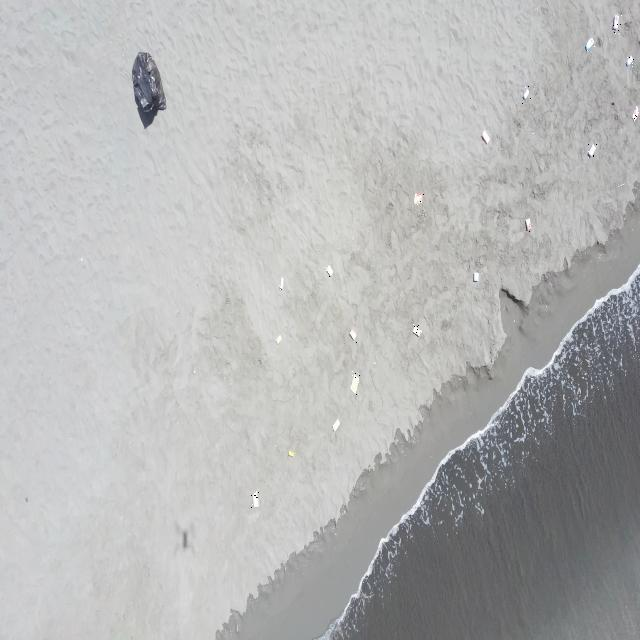Garbage: (132, 51, 164, 111), (350, 372, 359, 393), (584, 37, 593, 51), (480, 129, 489, 143), (612, 15, 619, 32), (632, 104, 639, 120), (412, 324, 422, 335), (413, 192, 423, 203), (587, 143, 595, 156), (332, 419, 340, 431), (624, 55, 632, 67), (348, 329, 355, 342), (524, 218, 531, 231), (252, 492, 258, 507), (523, 84, 528, 100), (472, 272, 479, 281), (327, 264, 332, 276), (279, 276, 283, 288), (287, 449, 295, 455), (276, 335, 280, 343)
